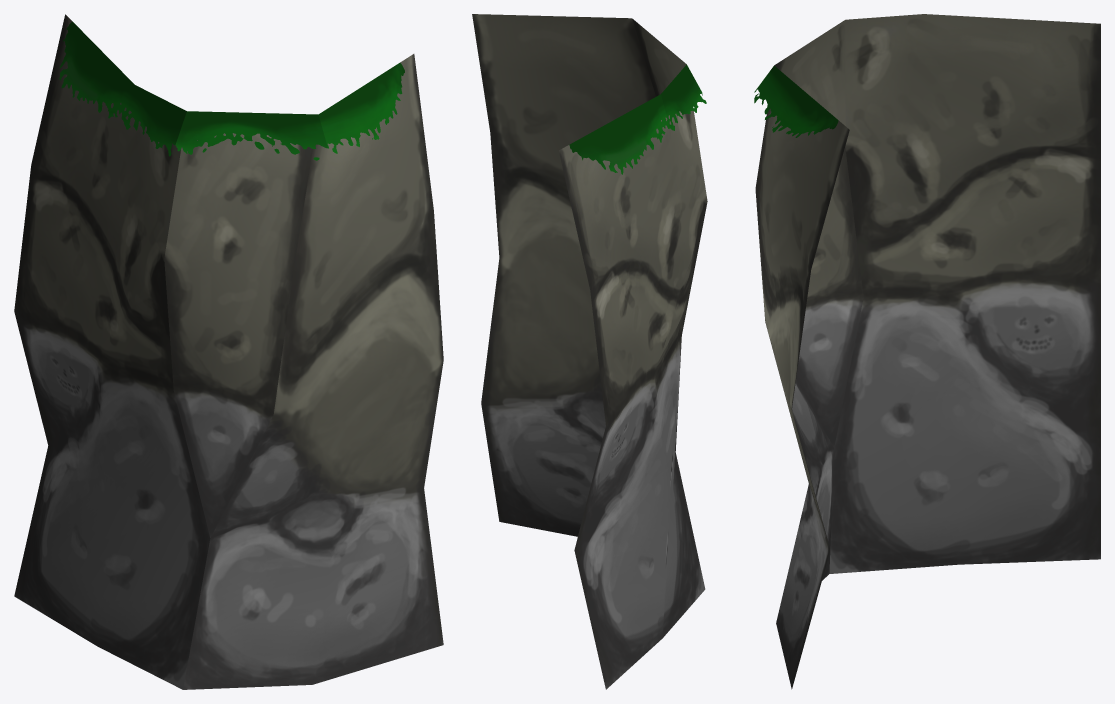
Rendered from WallOuterEdge.FBX.
3 views of the same model, side by side, from view 1: azimuth 30°, elevation 25°; view 2: azimuth 150°, elevation 25°; view 3: azimuth 270°, elevation 25° (orthographic). The views are drawn at different scales.
Parts seen in each view (by area): view 1: Box001; view 2: Box001; view 3: Box001.
Part boxes in pixels (left/top/right/bottom): Box001: left=14, top=14, right=443, bottom=689; Box001: left=472, top=14, right=707, bottom=689; Box001: left=754, top=14, right=1100, bottom=689.
Size of the model in its own units: 40 by 80 by 46.44.
